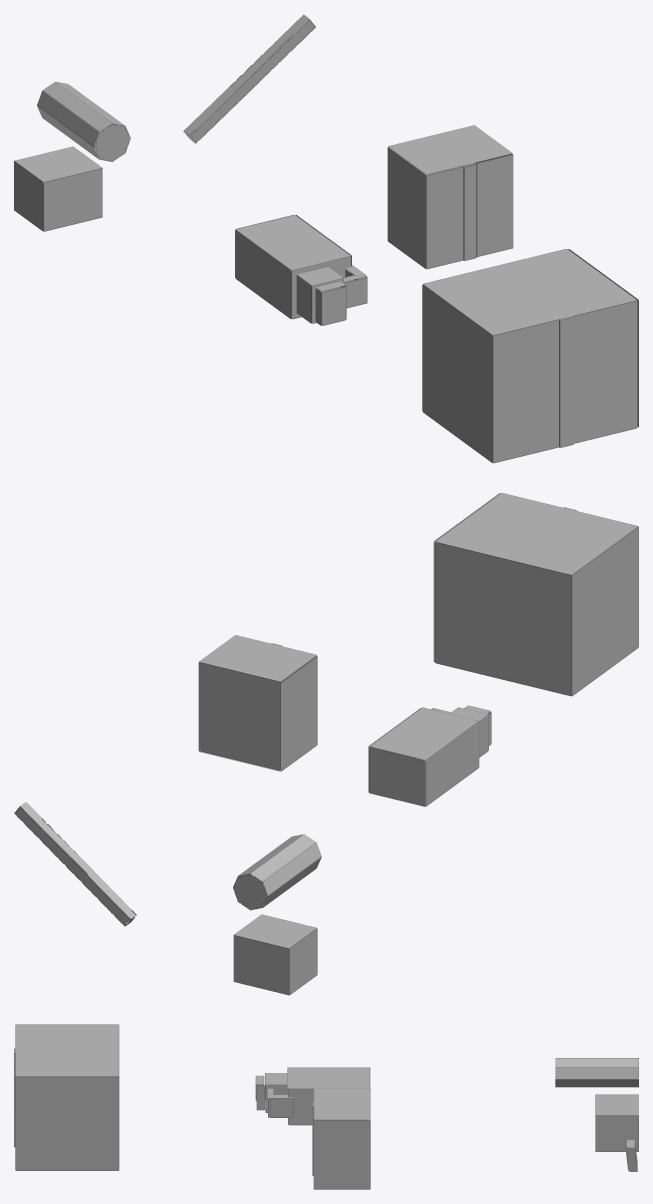
Rendered from contents_books_misc_02_28.obj.
3 renders of one model, top to bottom at view 1: azimuth 30°, elevation 25°; view 2: azimuth 150°, elevation 25°; view 3: azimuth 270°, elevation 25°, orthographic. The views are drawn at different scales.
Parts seen in each view (by area): view 1: contents_books_misc_02_28; view 2: contents_books_misc_02_28; view 3: contents_books_misc_02_28.
Boxes of the visible parts, left/top/right/bottom form: contents_books_misc_02_28: left=14, top=14, right=638, bottom=463; contents_books_misc_02_28: left=14, top=493, right=638, bottom=995; contents_books_misc_02_28: left=14, top=1024, right=638, bottom=1189.
Size of the model in its own units: 0.7438 by 0.415 by 1.86.
Materials: 1 (1 with a texture image).
